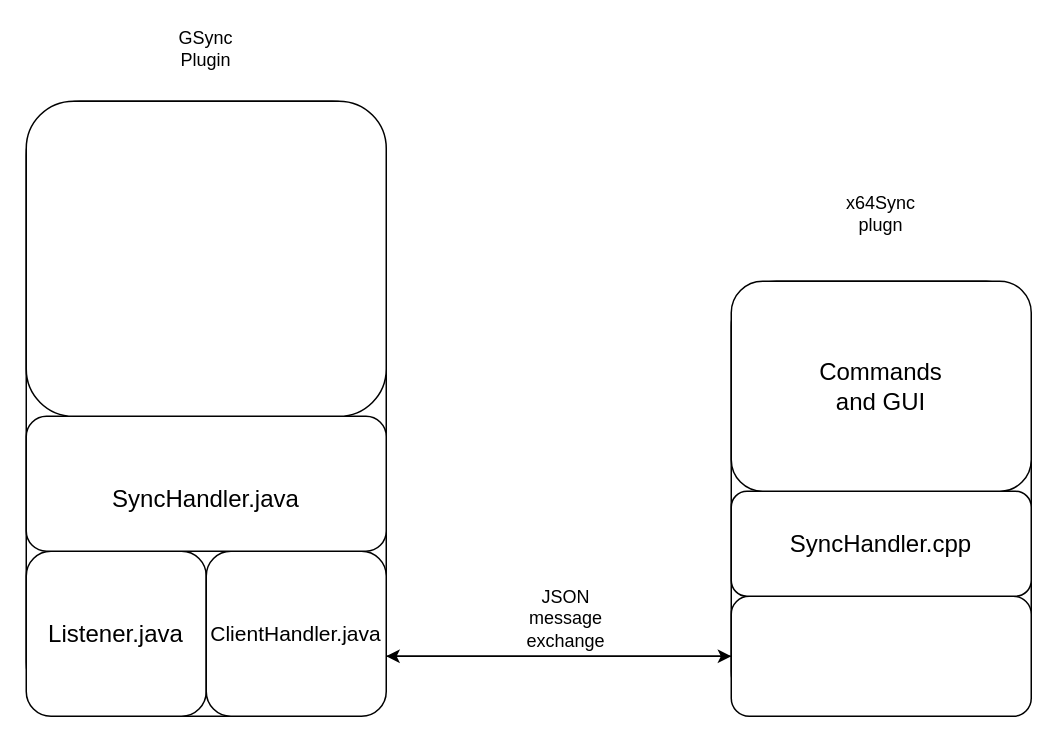
Image size: 1058x743. Some labels were removed from this diagram. The shapes that lost their labels are listed below. From the top down, each one's centre as x and y in pixels, then its label:
[205,258]: Actions and GUI
[880,655]: Client.cpp
